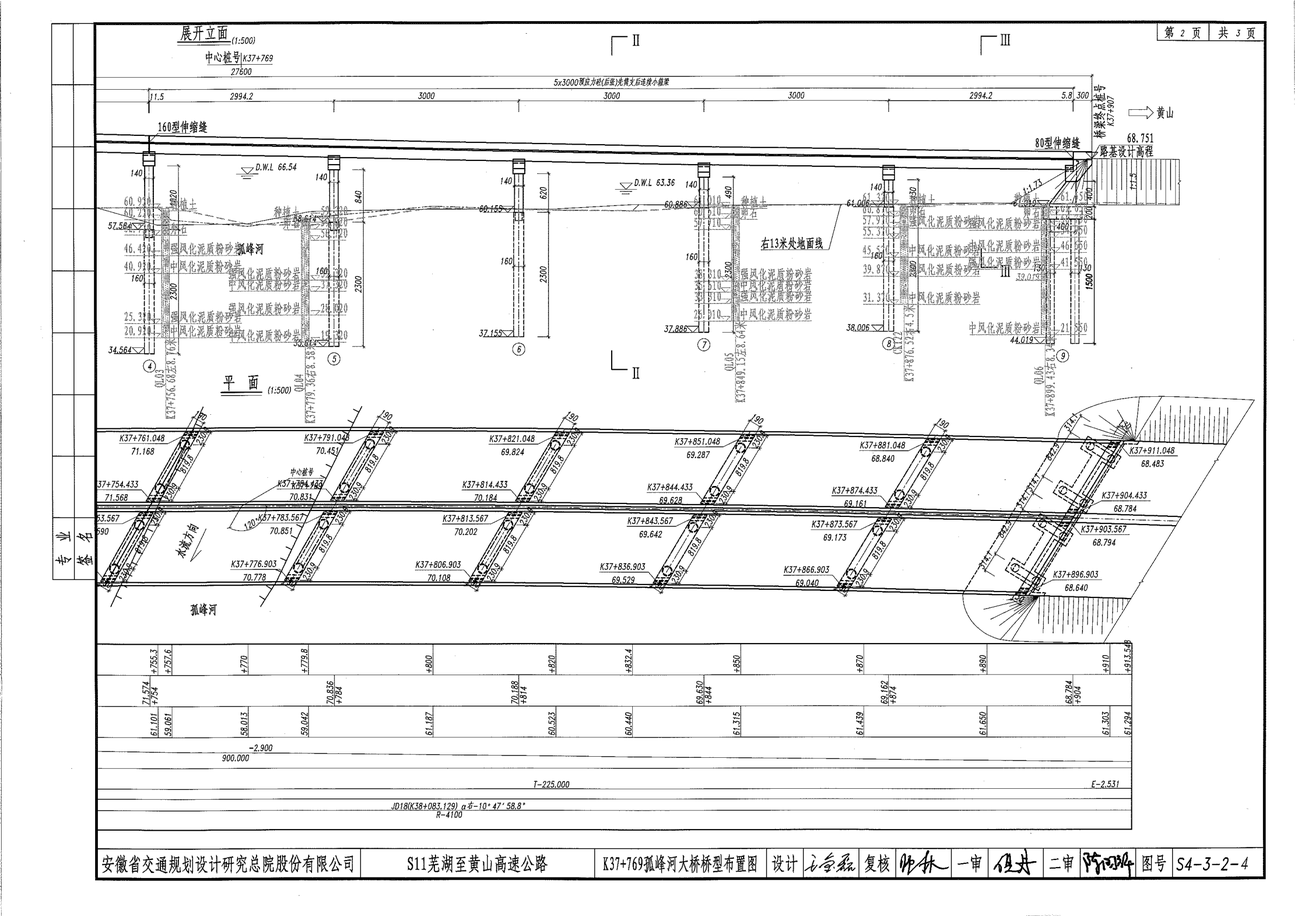A: (79, 26, 1227, 366)
